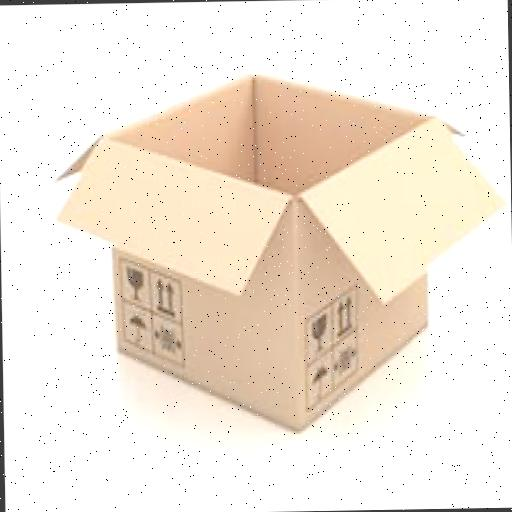cardboard: (48, 64, 507, 431), (110, 196, 299, 434), (293, 110, 505, 306), (51, 130, 290, 294), (293, 190, 428, 424)
